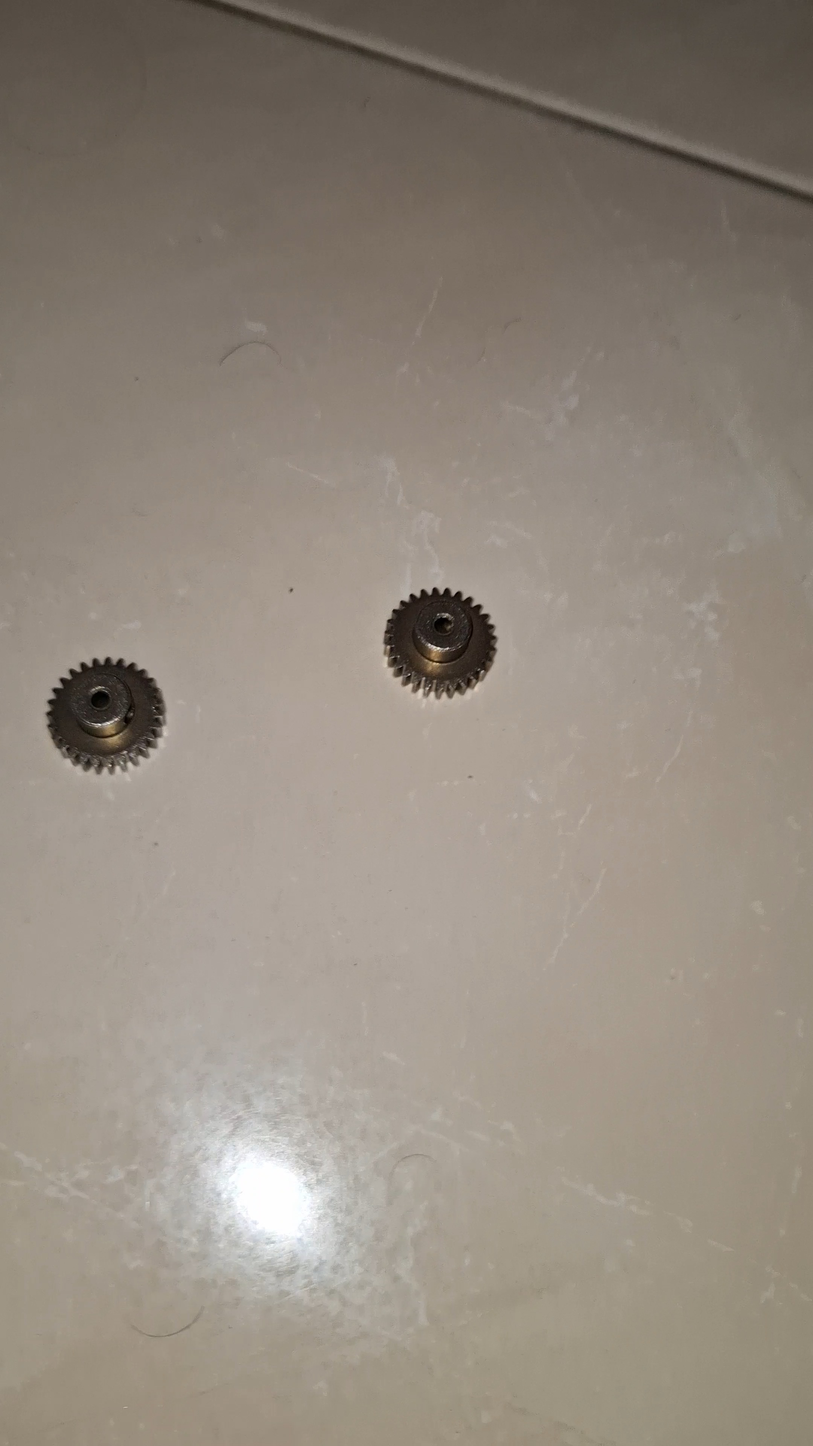spur gear: (47, 657, 164, 772), (385, 588, 495, 695)
